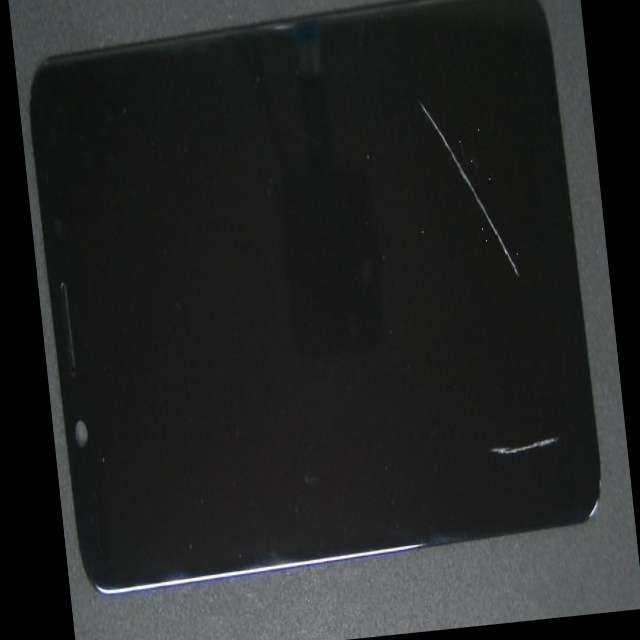scratch: (238, 186, 640, 640), (188, 0, 599, 219)
